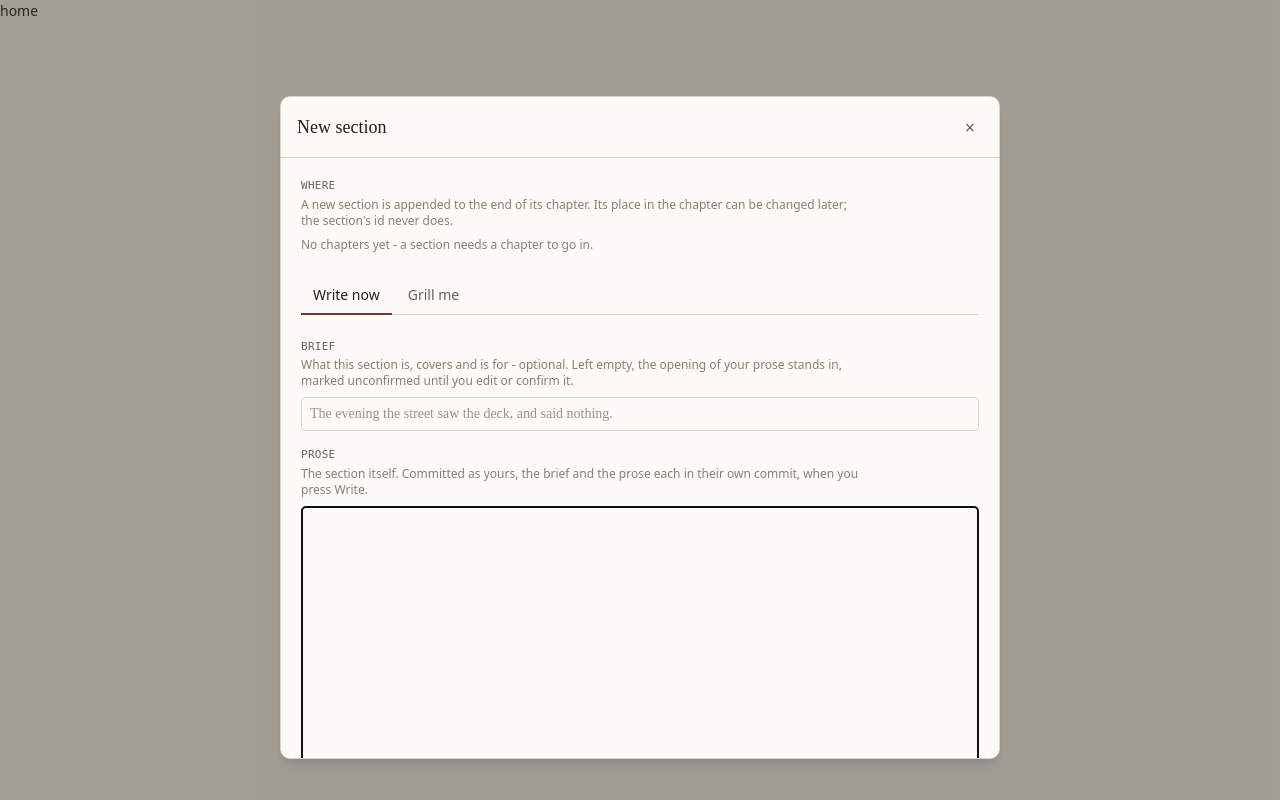
where the section goes › is honest about a manuscript with no chapters, and cannot write
Check: the text "No chapters yet - a section needs a chapter to go in." is shown, box [301,236,593,252]
Type "Some prose." into the text box named "Prose" at (640, 649), box [301,506,979,792]
(page scrolled)
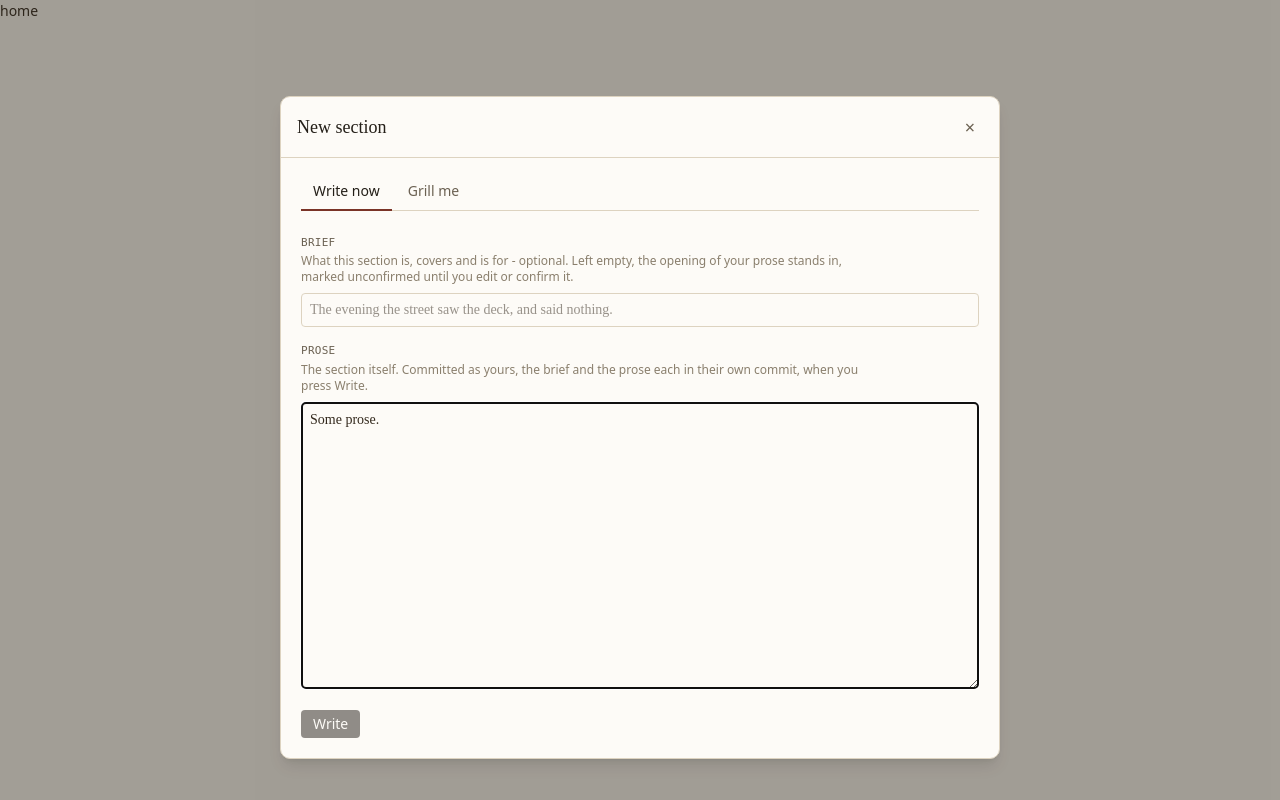
Check: the button "Write" is disabled, box [301,710,360,738]
